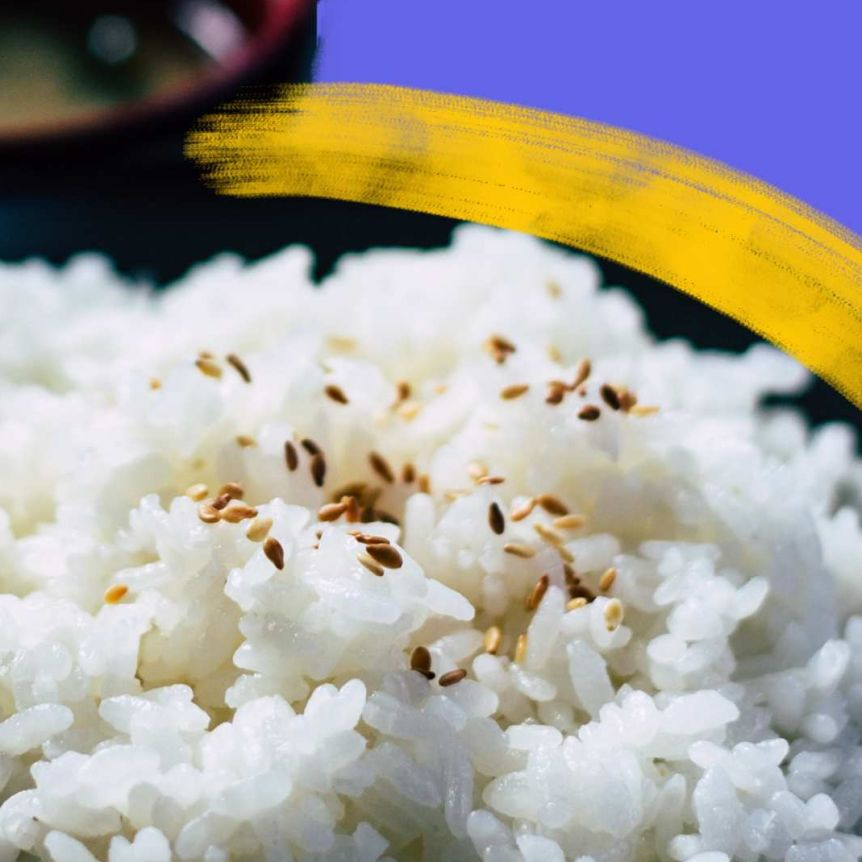rice: (24, 323, 781, 862)
